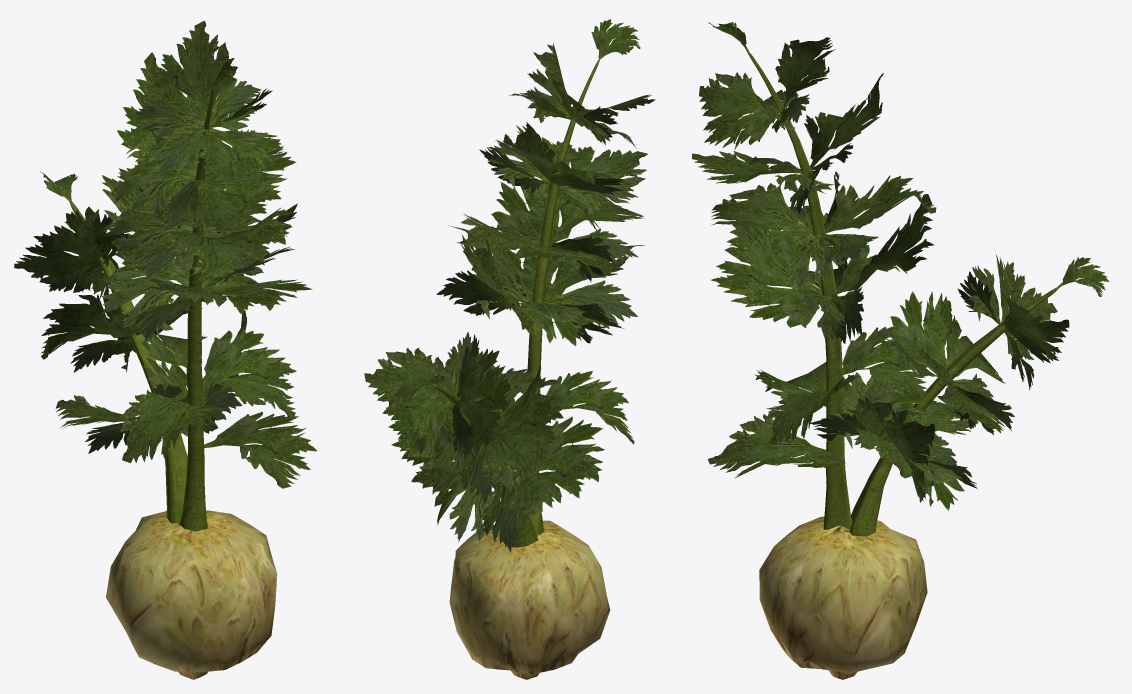
3 renders of one model, left to right at view 1: azimuth 30°, elevation 25°; view 2: azimuth 150°, elevation 25°; view 3: azimuth 270°, elevation 25°, orthographic. The views are drawn at different scales.
Visible parts, largest first — view 1: VG02_6; view 2: VG02_6; view 3: VG02_6.
Part boxes in pixels (x1,y1,x2,y2): VG02_6: [14, 20, 317, 679]; VG02_6: [364, 19, 655, 679]; VG02_6: [692, 22, 1108, 679].
Size of the model in its own units: 0.1655 by 0.4686 by 0.2783.
